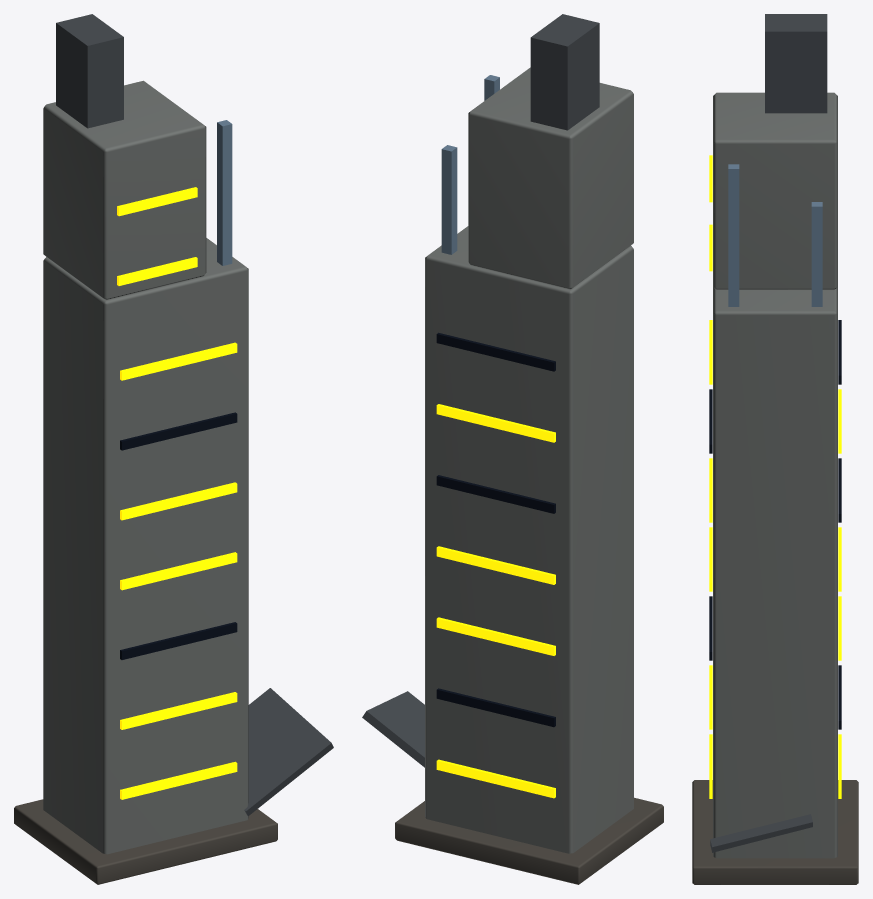
File: highrise_a.glb
3 views of the same model, side by side, from view 1: azimuth 30°, elevation 25°; view 2: azimuth 150°, elevation 25°; view 3: azimuth 270°, elevation 25° (orthographic). The views are drawn at different scales.
Visible parts, largest first — view 1: Shell, Upper shell, Plinth, Top stub, Collapsed floor, Exposed column, Window strip, Window strip.002, Window strip.005, Window strip.006, Window strip.003, Window strip.004 (+3 smaller); view 2: Shell, Upper shell, Plinth, Top stub, Collapsed floor, Exposed column.001, Window strip.012, Window strip.013, Window strip.007, Window strip.008, Window strip.010, Window strip.011 (+1 smaller); view 3: Shell, Upper shell, Plinth, Top stub, Exposed column, Collapsed floor, Exposed column.001.
Part boxes in pixels (x1,y1,x2,y2): Shell: (43, 238, 248, 854); Upper shell: (43, 80, 206, 300); Plinth: (14, 799, 277, 884); Top stub: (56, 14, 123, 128); Collapsed floor: (244, 688, 333, 816); Exposed column: (217, 120, 232, 265); Window strip: (120, 761, 237, 799); Window strip.002: (120, 622, 237, 659); Window strip.005: (120, 412, 237, 450); Window strip.006: (120, 342, 237, 380); Window strip.003: (120, 552, 237, 590); Window strip.004: (120, 482, 237, 520); Shell: (425, 226, 633, 853); Upper shell: (468, 67, 633, 289); Plinth: (395, 797, 663, 884); Top stub: (530, 14, 599, 130); Collapsed floor: (362, 691, 424, 767); Exposed column.001: (441, 145, 457, 254); Window strip.012: (436, 404, 555, 442); Window strip.013: (436, 332, 555, 371); Window strip.007: (436, 759, 555, 798); Window strip.008: (436, 688, 555, 727); Window strip.010: (436, 546, 555, 584); Window strip.011: (436, 475, 555, 513); Shell: (713, 287, 837, 858); Upper shell: (713, 92, 837, 290); Plinth: (692, 780, 858, 884); Top stub: (765, 14, 827, 113); Exposed column: (728, 164, 739, 306); Collapsed floor: (710, 814, 812, 852); Exposed column.001: (811, 202, 822, 306).
Size of the model in its own units: 4.07 by 12.7 by 2.4.
